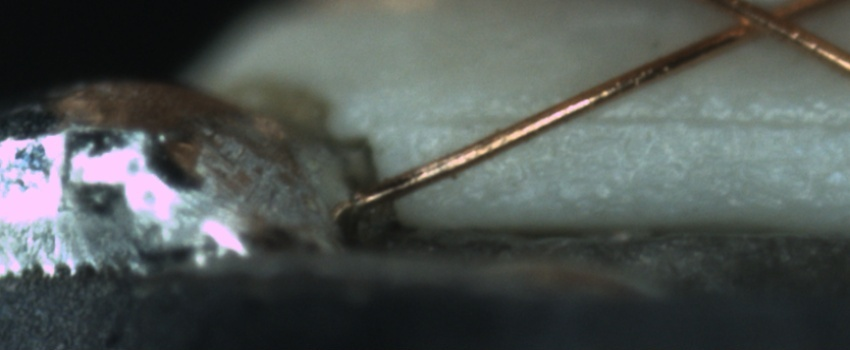CL: (706, 2, 817, 46)
DL: (408, 92, 850, 154)
